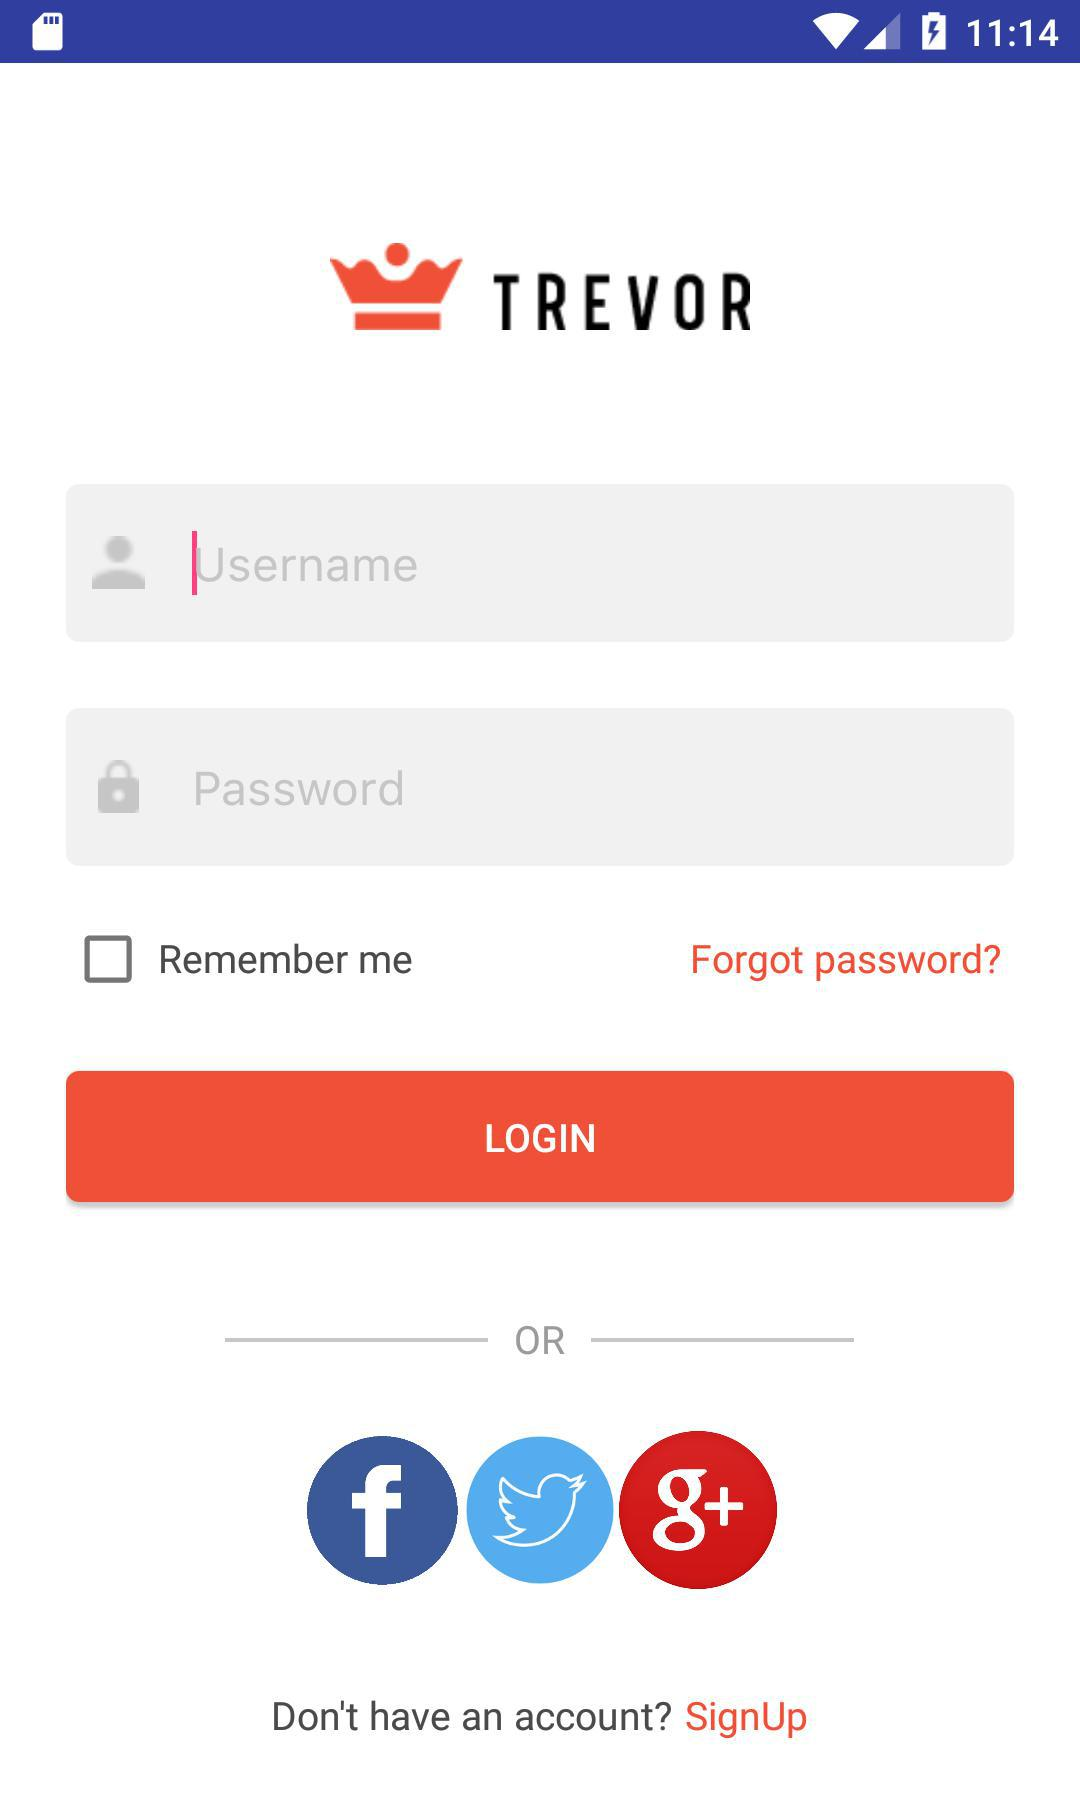CheckedTextView: (85, 934, 414, 985)
EditText: (67, 484, 1015, 645), (65, 709, 1015, 868)
Icon: (619, 1431, 778, 1590), (307, 1435, 459, 1586), (466, 1436, 615, 1585), (92, 536, 147, 591), (97, 760, 141, 815)
Image: (331, 242, 751, 332)
Text: (274, 1698, 807, 1739), (692, 943, 1001, 982), (161, 942, 414, 975), (195, 547, 418, 583), (196, 769, 404, 807), (516, 1326, 566, 1356)
TextButton: (67, 1071, 1015, 1203)
UpperTaskBar: (1, 3, 1080, 64)
